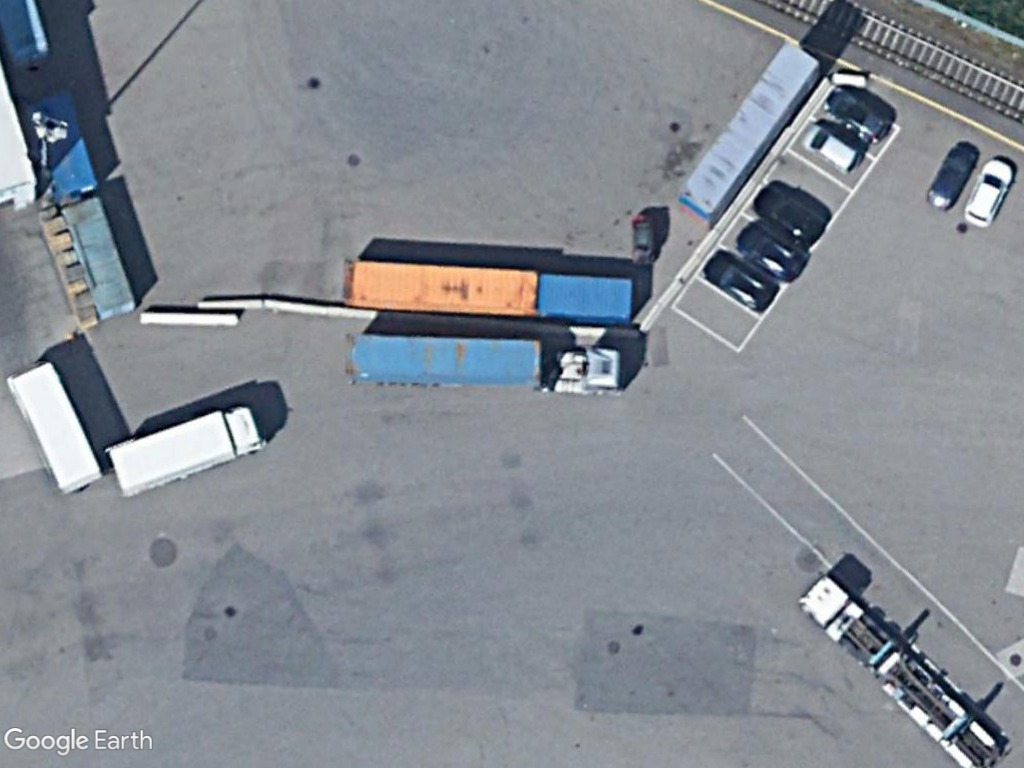car: (821, 87, 890, 146), (961, 156, 1015, 228), (919, 144, 974, 213), (799, 119, 863, 176)
longvehicle: (344, 329, 627, 403)
truck: (102, 403, 271, 500)
